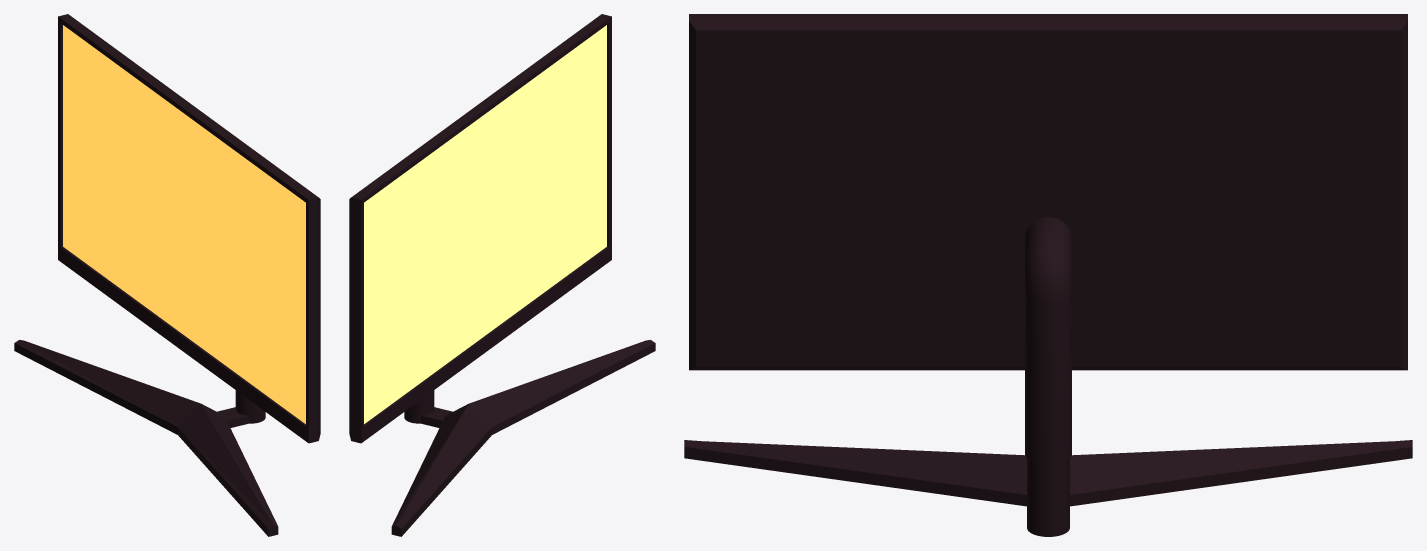
File: monitor4.glb
The picture shows the model from 3 angles, left to right: view 1: azimuth 30°, elevation 25°; view 2: azimuth 150°, elevation 25°; view 3: azimuth 270°, elevation 25°; orthographic projection. The views are drawn at different scales.
Visible parts, largest first — view 1: Object_2, Object_3; view 2: Object_2, Object_3; view 3: Object_3.
Part boxes in pixels (left/top/right/bottom): Object_2: left=63, top=25, right=305, bottom=423; Object_3: left=14, top=14, right=320, bottom=536; Object_2: left=364, top=25, right=606, bottom=423; Object_3: left=349, top=14, right=655, bottom=536; Object_3: left=684, top=14, right=1412, bottom=536.
Size of the model in its own units: 0.5617 by 1.41 by 2.
